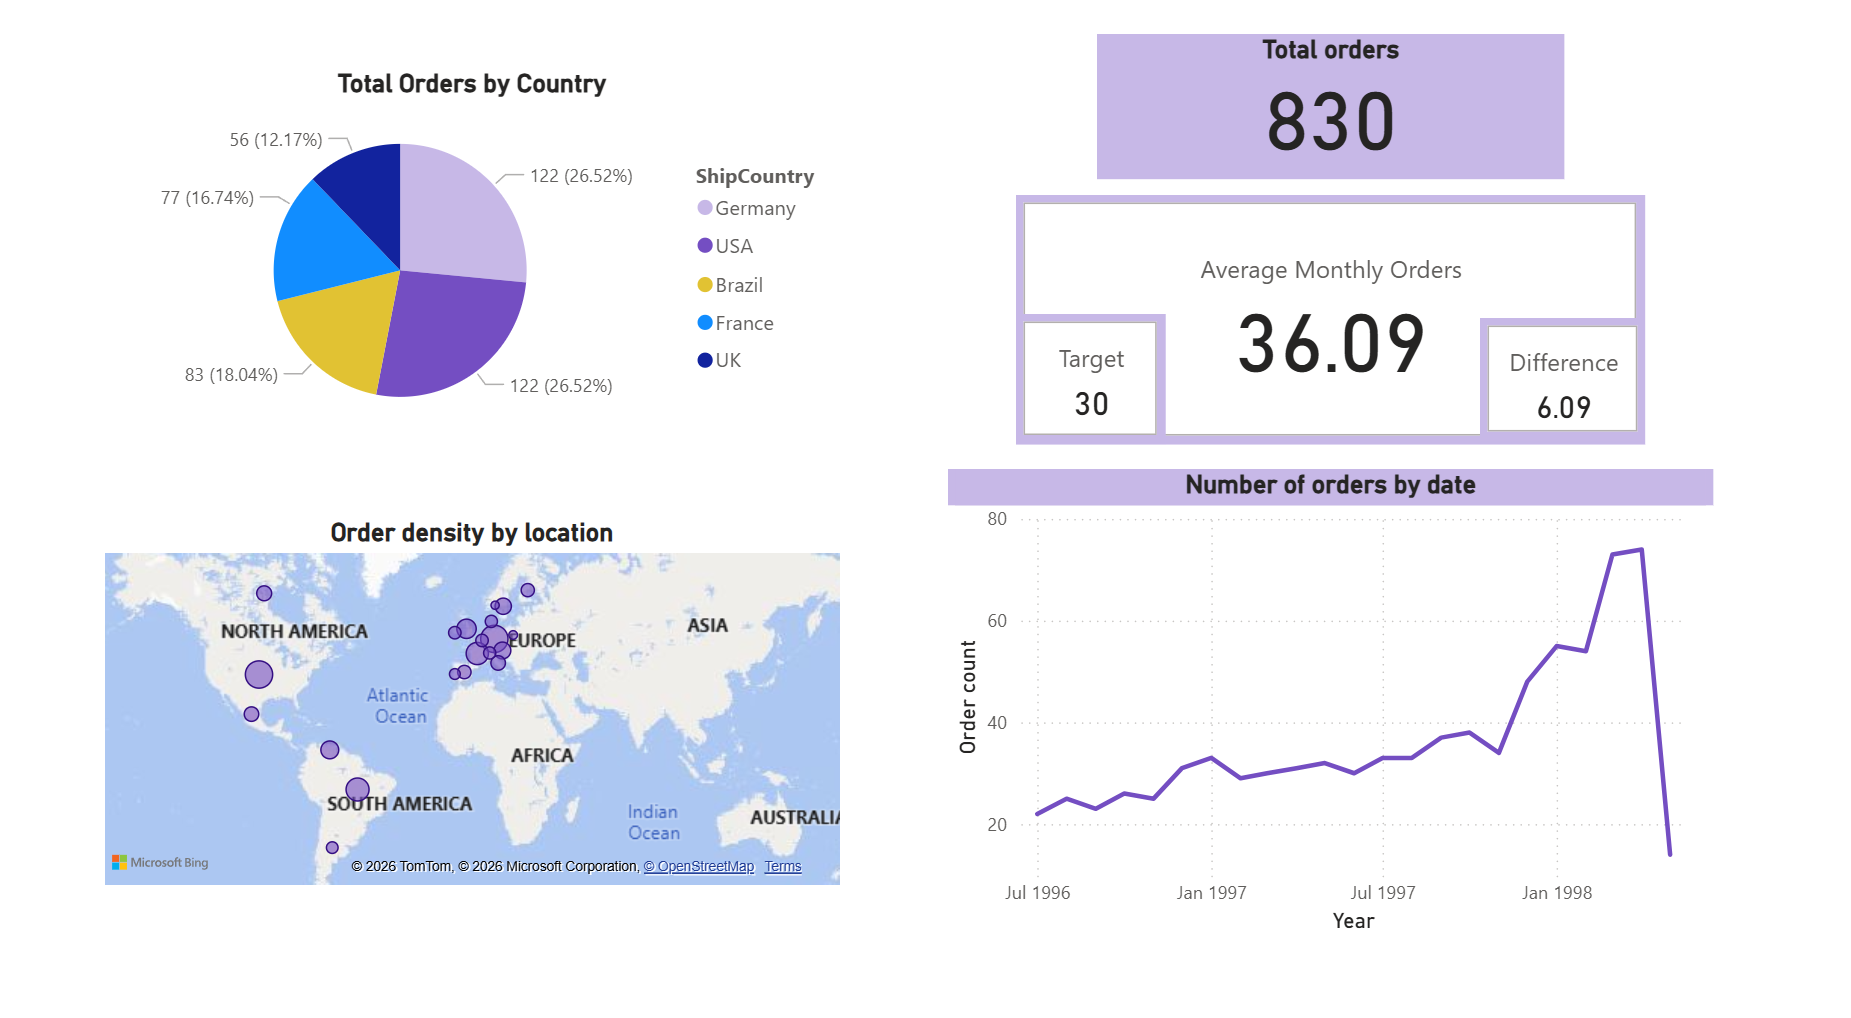

This screenshot's page, from the dashboard's own definition file:
{"tool":"powerbi","page":{"name":"Page 2","canvas":[1280,720],"ordinal":1},"visuals":[{"type":"pieChart","title":"Total Orders by Country","fields":{"Category":["Orders.ShipCountry"],"Y":["Categories.Total Orders"]},"box":[82,63.5,495.9,248.6],"z":0},{"type":"kpi","title":"Total orders","fields":{"TrendLine":["Order_Details.OrderID"],"Indicator":["Categories.Total Orders"]},"box":[743.1,41,309.4,95.9],"z":1000},{"type":"map","title":"Order density by location","fields":{"Size":["Categories.Total Orders"],"Category":["Orders.ShipCountry"]},"box":[82,360.3,495.9,247.9],"z":2000},{"type":"lineChart","title":"Number of orders by date","fields":{"Y":["CountNonNull(Orders.OrderID)"],"Category":["Orders.OrderDate.Variation.Date Hierarchy.Year","Orders.OrderDate.Variation.Date Hierarchy.Month"]},"box":[644.6,328.6,506.4,311.4],"z":3000},{"type":"cardVisual","fields":{"Data":["Categories.Avg Monthly Orders (Fixed)"]},"box":[689.6,147.4,415.9,164.6],"z":6000},{"type":"cardVisual","fields":{"Data":["Categories.Difference"]},"box":[996.4,228.8,109.1,80.7],"z":6500},{"type":"cardVisual","fields":{"Data":["Categories.Target Monthly"]},"box":[689.6,226.1,98.5,86],"z":7000}]}

Visuals, with their boxes in screenshot pixels (x1, y1, x2, y2), scaled from the page's 1280x720 canvas onto the 1851x1018 screenshot:
"Total Orders by Country" pieChart: 119/90/836/441
"Total orders" kpi: 1075/58/1522/194
"Order density by location" map: 119/509/836/860
"Number of orders by date" lineChart: 932/465/1664/905
cardVisual - Categories.Avg Monthly Orders (Fixed): 997/208/1599/441
cardVisual - Categories.Difference: 1441/323/1599/438
cardVisual - Categories.Target Monthly: 997/320/1140/441
